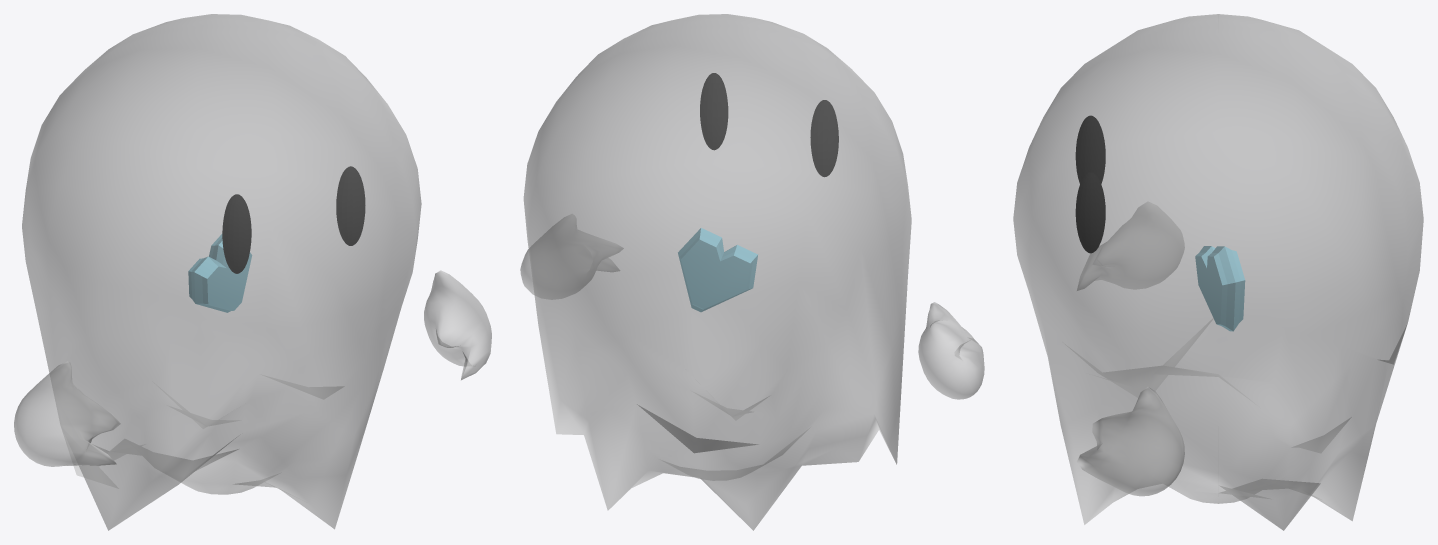
The model's file is Ghost.glb.
3 renders of one model, left to right at view 1: azimuth 30°, elevation 25°; view 2: azimuth 150°, elevation 25°; view 3: azimuth 270°, elevation 25°, orthographic. The views are drawn at different scales.
Parts seen in each view (by area): view 1: Sphere, Sphere.004, Sphere.003, Cube, Sphere.001, Sphere.002; view 2: Sphere, Sphere.003, Sphere.004, Cube, Sphere.001, Sphere.002; view 3: Sphere, Sphere.003, Sphere.004, Cube, Sphere.001, Sphere.002.
Part boxes in pixels (<box>): Sphere: <box>22,14,421,530</box>; Sphere.004: <box>14,361,120,466</box>; Sphere.003: <box>424,270,491,379</box>; Cube: <box>188,234,251,312</box>; Sphere.001: <box>336,166,365,245</box>; Sphere.002: <box>222,194,251,273</box>; Sphere: <box>523,14,911,530</box>; Sphere.003: <box>520,214,623,299</box>; Sphere.004: <box>918,302,984,399</box>; Cube: <box>678,228,757,311</box>; Sphere.001: <box>700,73,728,150</box>; Sphere.002: <box>810,100,838,176</box>; Sphere: <box>1013,14,1423,530</box>; Sphere.003: <box>1077,387,1184,496</box>; Sphere.004: <box>1077,202,1184,290</box>; Cube: <box>1195,246,1245,331</box>; Sphere.001: <box>1075,172,1105,253</box>; Sphere.002: <box>1075,115,1105,183</box>.
Size of the model in its own units: 1.32 by 1.24 by 0.9854.
